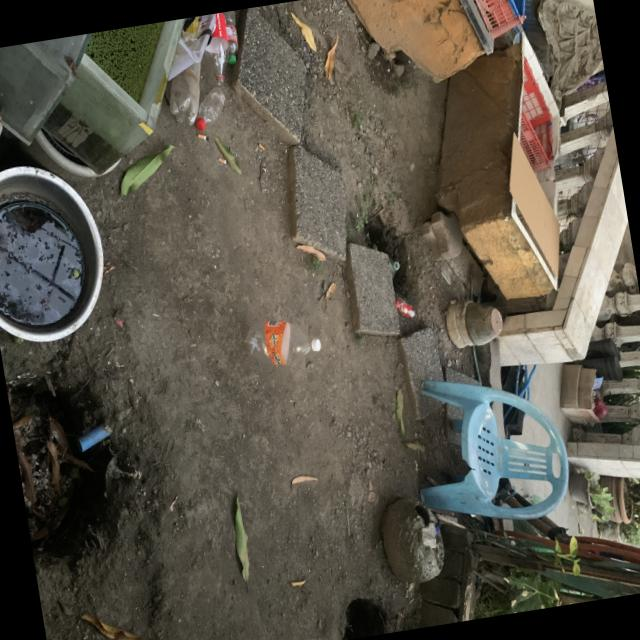Bottle: (244, 319, 321, 364)
